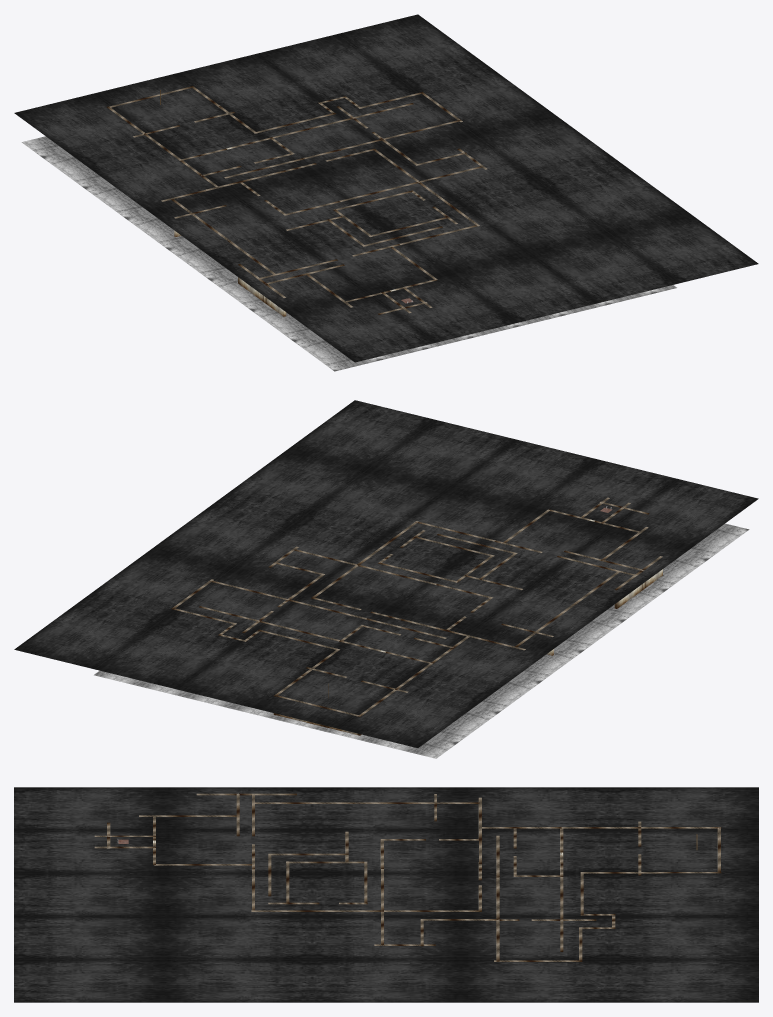
Rendered from mainScene.gltf.
The picture shows the model from 3 angles, top to bottom: view 1: azimuth 30°, elevation 25°; view 2: azimuth 150°, elevation 25°; view 3: azimuth 270°, elevation 25°; orthographic projection. The views are drawn at different scales.
Visible parts, largest first — view 1: Ceiling, Floor; view 2: Ceiling, Floor; view 3: Ceiling.
Part boxes in pixels (x1,y1,x2,y2): Ceiling: [14, 14, 758, 362]; Floor: [21, 136, 676, 371]; Ceiling: [14, 400, 758, 747]; Floor: [94, 523, 749, 758]; Ceiling: [14, 787, 758, 1002].
Size of the model in its own units: 103 by 9.28 by 148.
Materials: 29 (29 with a texture image).
